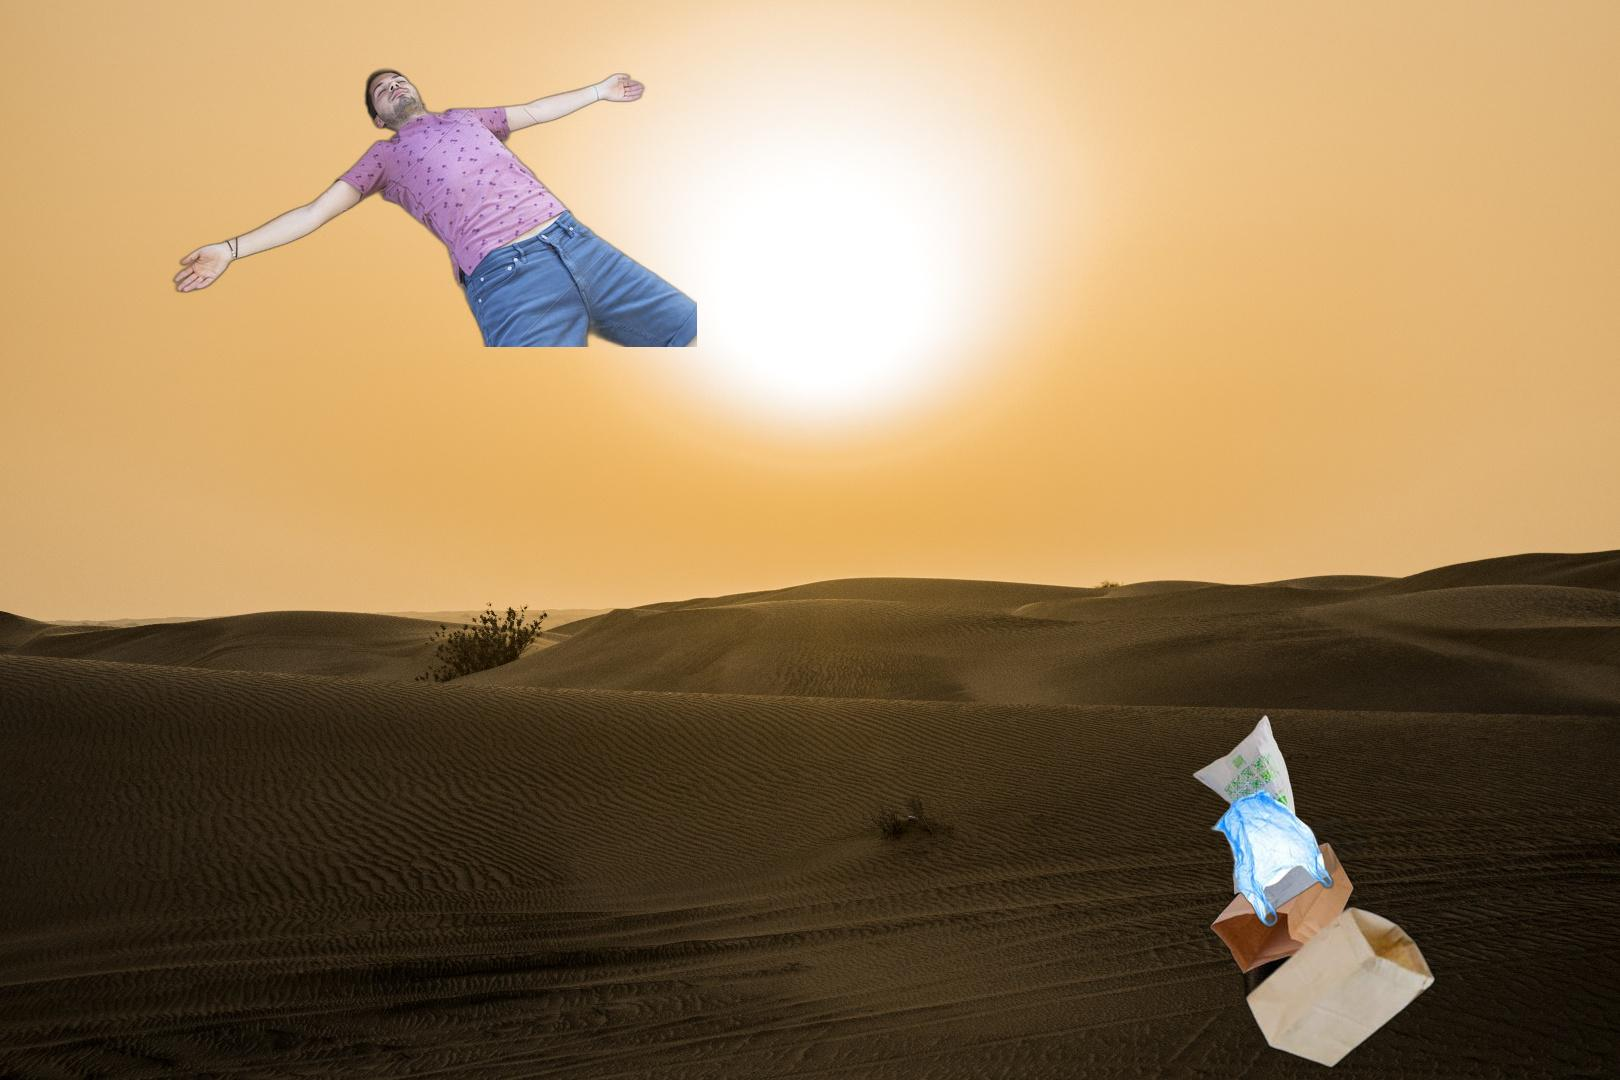paper-bag: (1207, 840, 1438, 1072)
plastic-bag: (1190, 714, 1367, 931)
trashbox-cardboard: (169, 67, 697, 347)
